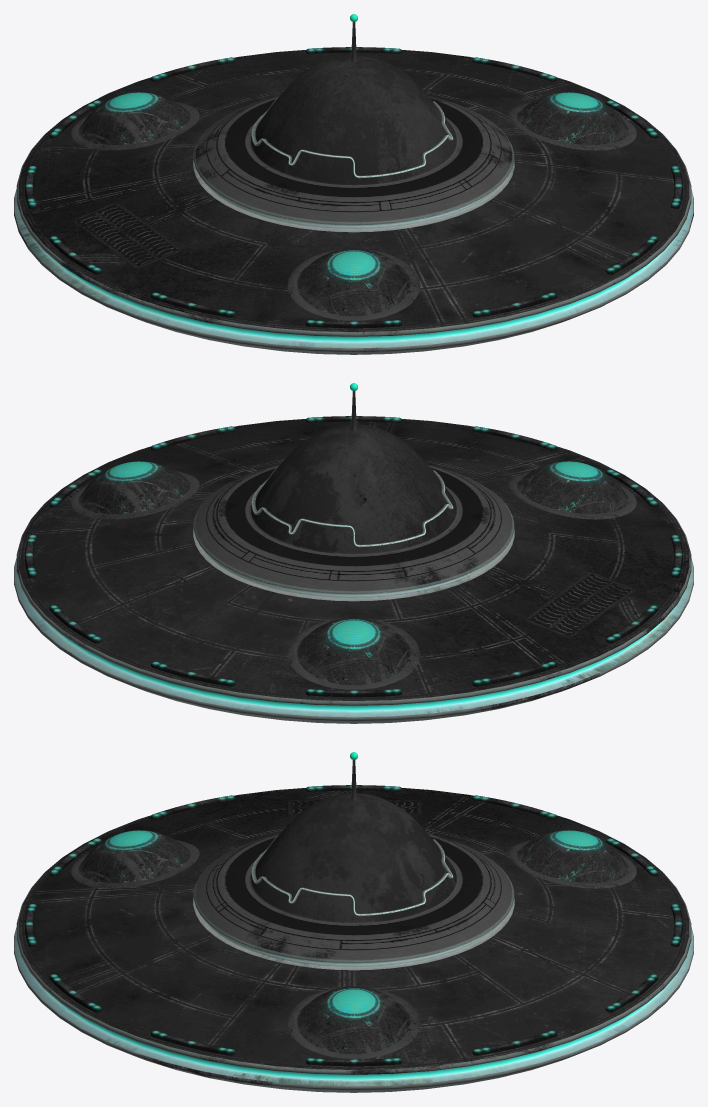
The model's file is UFO_Alpha.dae.
3 renders of one model, top to bottom at view 1: azimuth 30°, elevation 25°; view 2: azimuth 150°, elevation 25°; view 3: azimuth 270°, elevation 25°, orthographic.
Visible parts, largest first — view 1: Flying_Saucer; view 2: Flying_Saucer; view 3: Flying_Saucer.
Part boxes in pixels (bbox=[...]): Flying_Saucer: bbox=[14, 14, 693, 354]; Flying_Saucer: bbox=[14, 383, 693, 723]; Flying_Saucer: bbox=[14, 752, 693, 1092].
Bounding box in the file's own units: 0.3893 × 0.1604 × 0.3887.
Materials: 1 (1 with a texture image).
